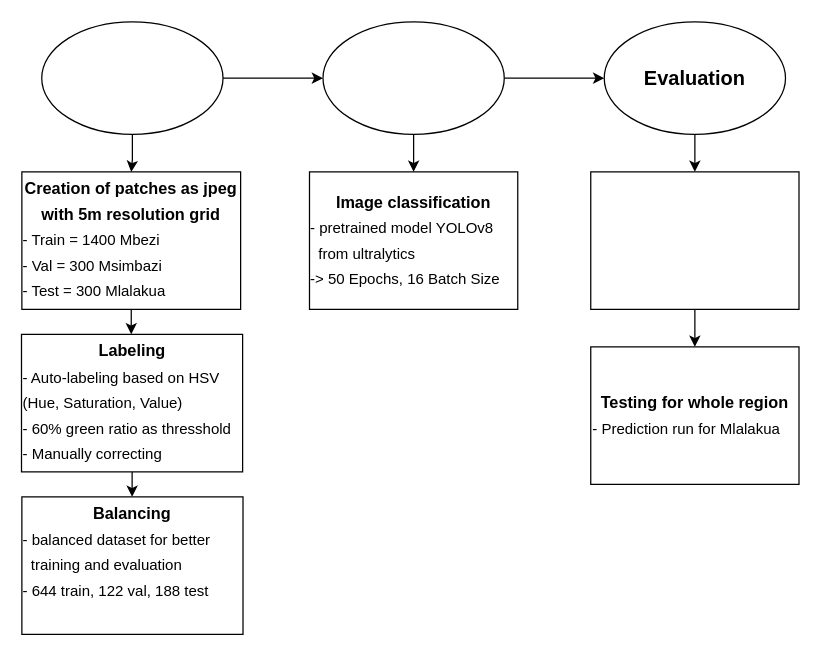
The diagram is 821 pixels wide and 656 high, and some of its shapes have lost their labels. The centre of each missing label's shape, as x and y in pixels:
"Data preparation" belongs at point 131,77.
"Perfomance of model - Confusion matrix for val- and testset" belongs at point 694,240.
"Training" belongs at point 413,77.
